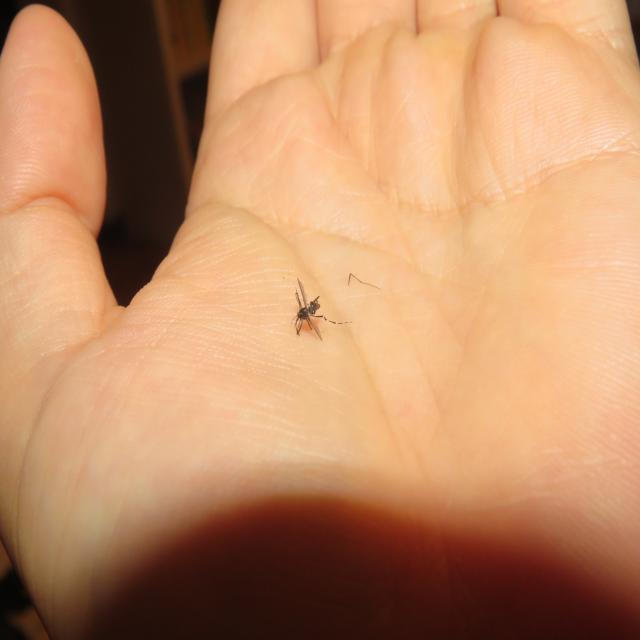albopictus: (286, 272, 356, 344)
